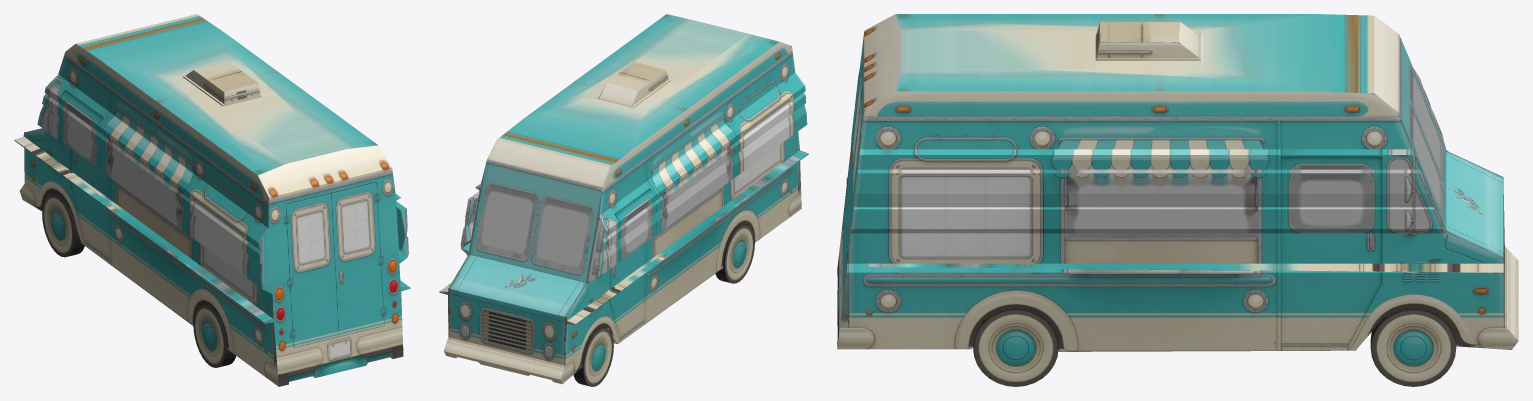
File: food_truck.glb
The picture shows the model from 3 angles, left to right: view 1: azimuth 30°, elevation 25°; view 2: azimuth 150°, elevation 25°; view 3: azimuth 270°, elevation 25°; orthographic projection. The views are drawn at different scales.
Parts seen in each view (by area): view 1: food_truck, wheel_FL, wheel_BL; view 2: food_truck, wheel_FL, wheel_BL; view 3: food_truck, wheel_FR, wheel_BR.
Part boxes in pixels (x1=…): food_truck: x1=14, y1=14, x2=410, y2=386; wheel_FL: x1=42, y1=193, x2=84, y2=257; wheel_BL: x1=193, y1=304, x2=236, y2=367; food_truck: x1=439, y1=14, x2=808, y2=384; wheel_FL: x1=573, y1=327, x2=613, y2=386; wheel_BL: x1=715, y1=224, x2=754, y2=283; food_truck: x1=837, y1=14, x2=1518, y2=351; wheel_FR: x1=1370, y1=307, x2=1456, y2=386; wheel_BR: x1=973, y1=307, x2=1058, y2=386.
Bounding box in the file's own units: 2.28 × 3.54 × 6.94.
Materials: 3 (1 with a texture image).
